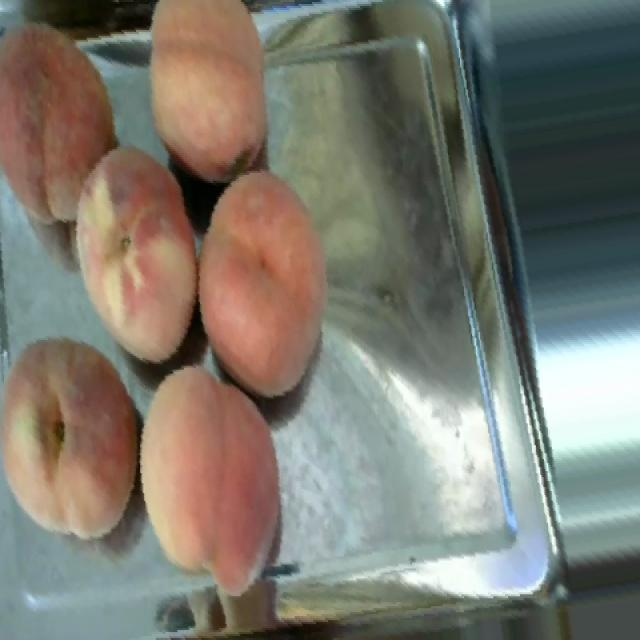Fruit: (121, 348, 311, 614), (196, 147, 353, 415), (46, 125, 198, 380), (0, 318, 159, 559), (124, 0, 295, 195), (0, 1, 137, 242)
